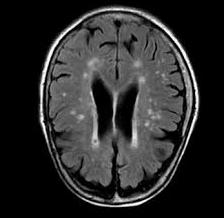Normal_Brain: (1, 1, 224, 218)
